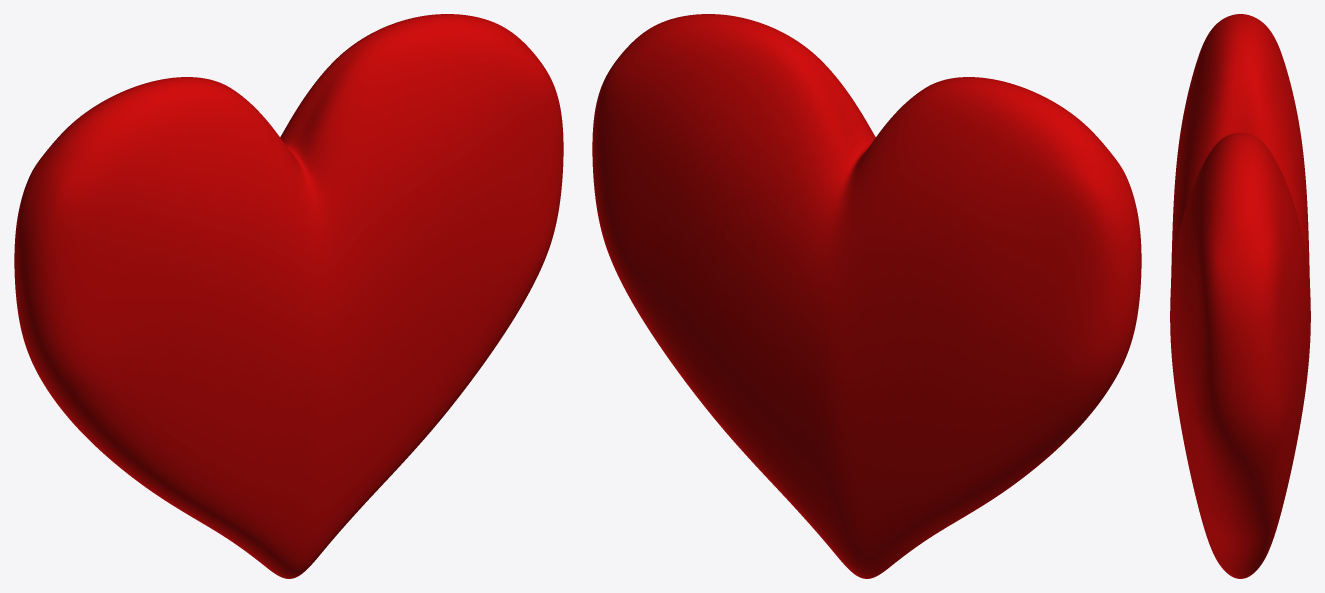
File: Emoji 141 red heart.fbx
3 views of the same model, side by side, from view 1: azimuth 30°, elevation 25°; view 2: azimuth 150°, elevation 25°; view 3: azimuth 270°, elevation 25° (orthographic). The views are drawn at different scales.
Parts seen in each view (by area): view 1: Emoji 141 red heart; view 2: Emoji 141 red heart; view 3: Emoji 141 red heart.
Part boxes in pixels (x1,y1,x2,y2): Emoji 141 red heart: (14, 14, 563, 578); Emoji 141 red heart: (592, 14, 1141, 578); Emoji 141 red heart: (1170, 14, 1310, 578).
Size of the model in its own units: 92.61 by 22.6 by 86.73.
